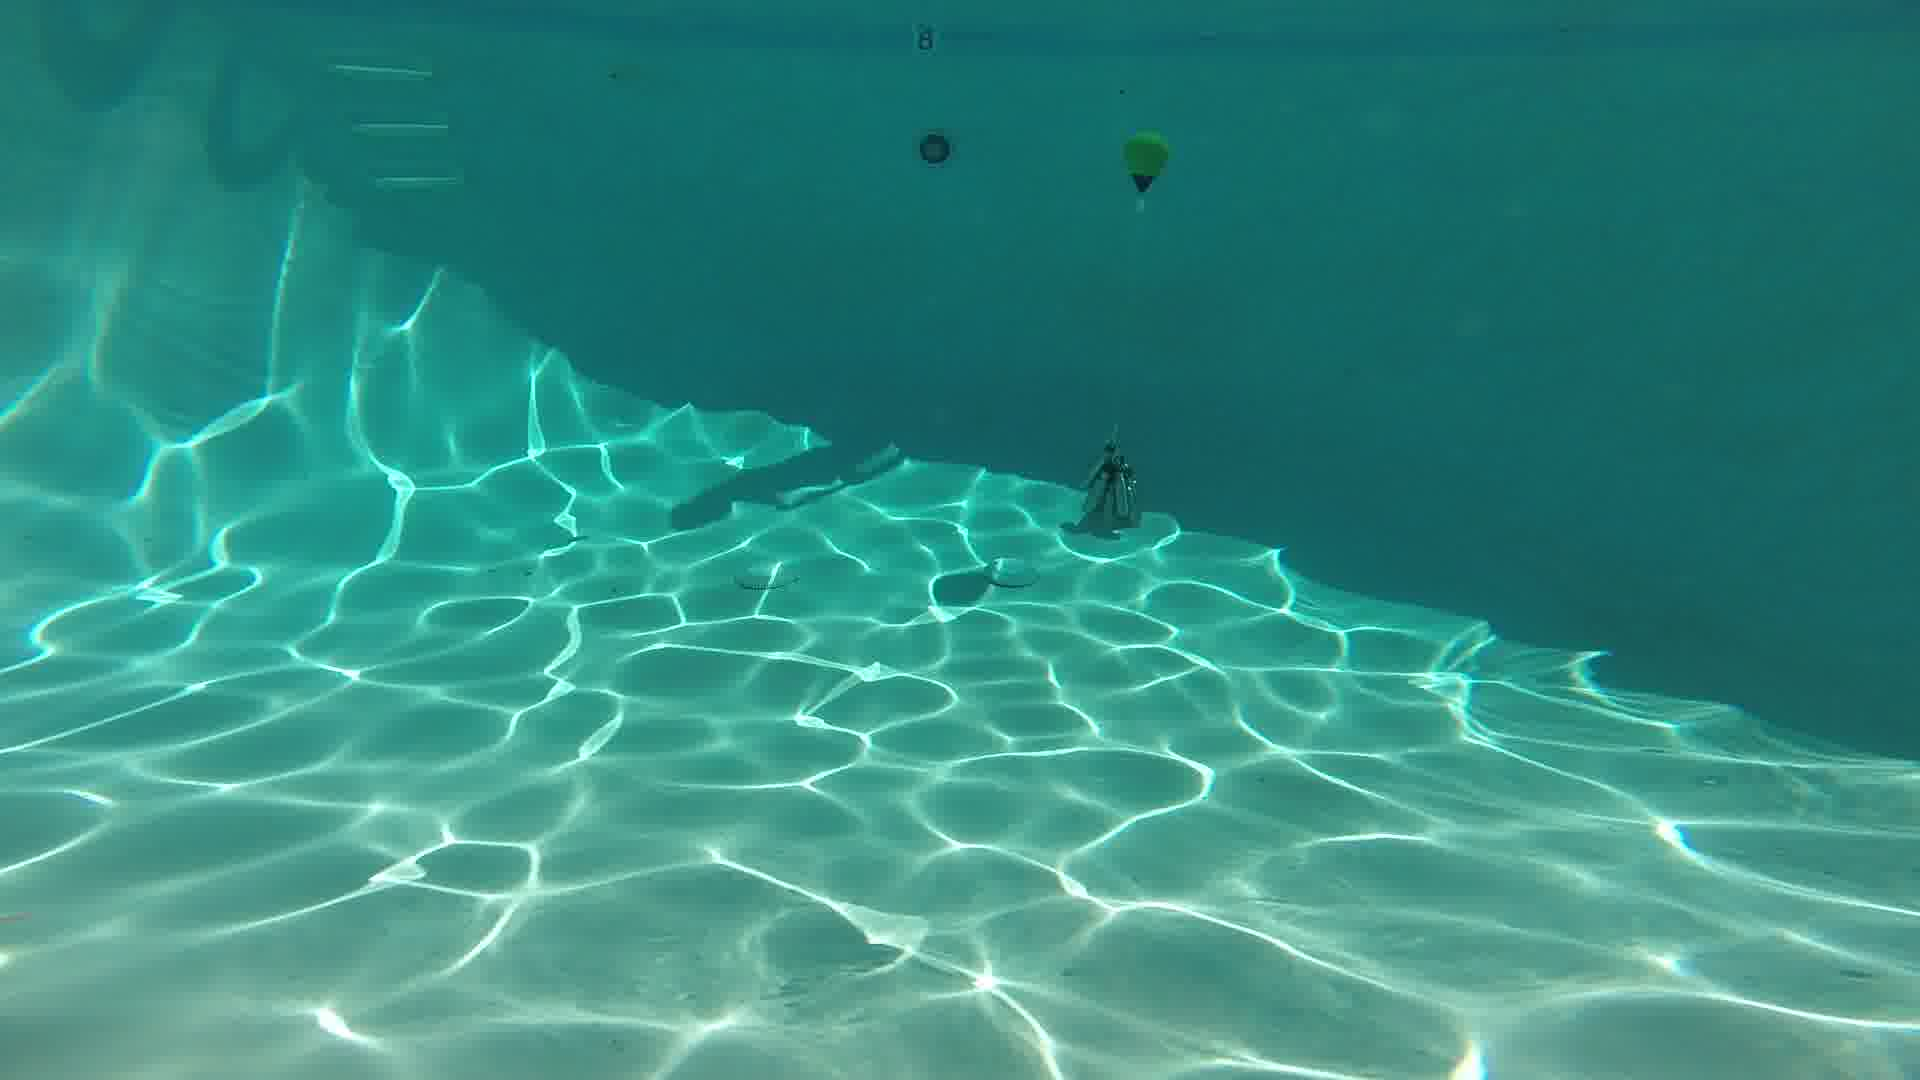yellow_buoy: (1122, 133, 1168, 195)
